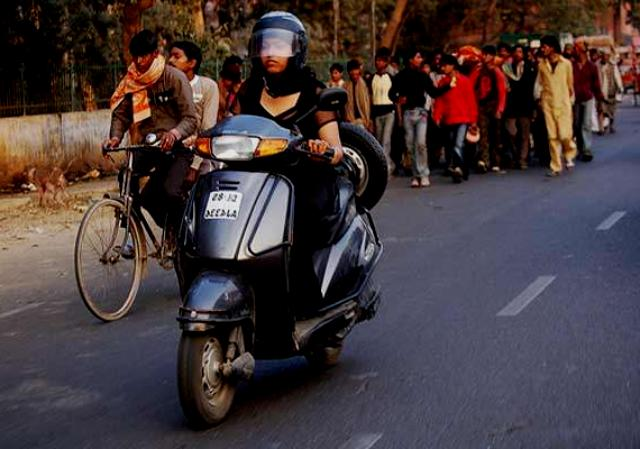licensePlate: (204, 190, 241, 220)
motorcycle: (165, 8, 388, 432)
withHelmet: (245, 11, 302, 78)
